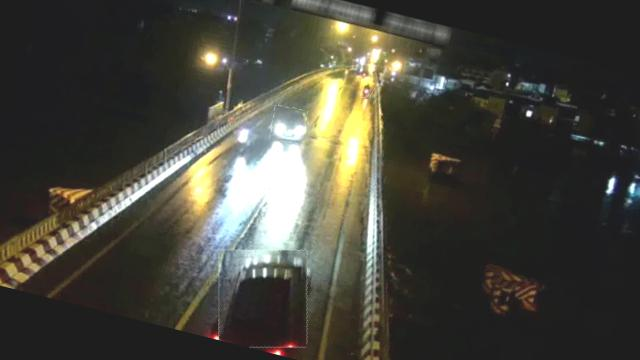Bike: (235, 121, 252, 147), (360, 80, 376, 100)
Car: (203, 236, 324, 360), (268, 103, 308, 146)
